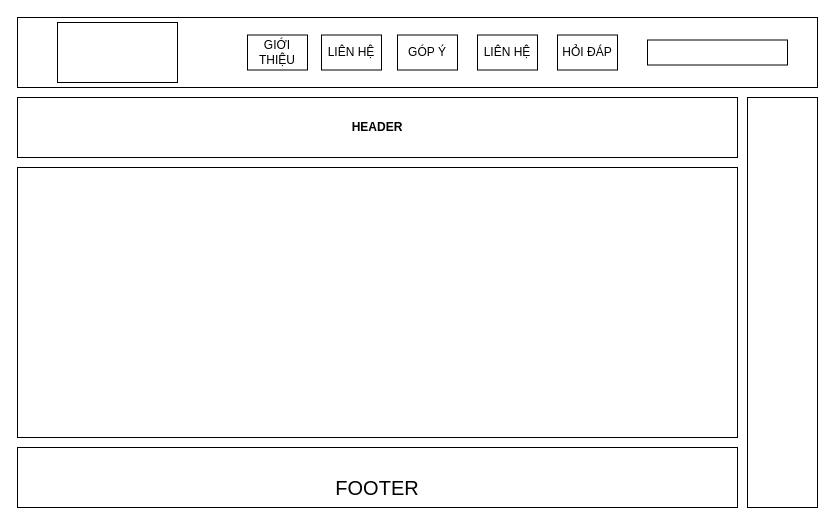
The diagram is 835 pixels wide and 525 high, and some of its shapes have lost their labels. Here are the shapes that lost their labels. From the top down, the box of each, then its label:
(56, 22, 178, 82): LOGO FPT POLYTECHNIC
(646, 39, 788, 65): TÌM KIẾM
(16, 166, 738, 438): BODY
(746, 96, 818, 508): SLIDE BAR
